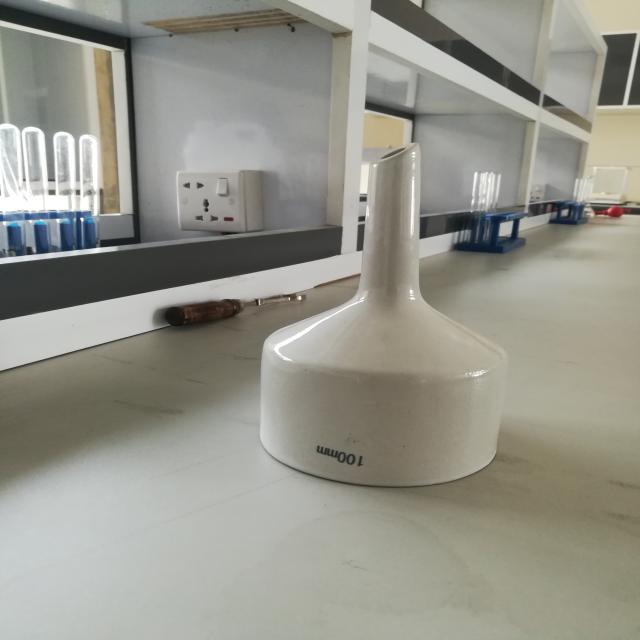Buchner_Funnel: (220, 115, 548, 511)
